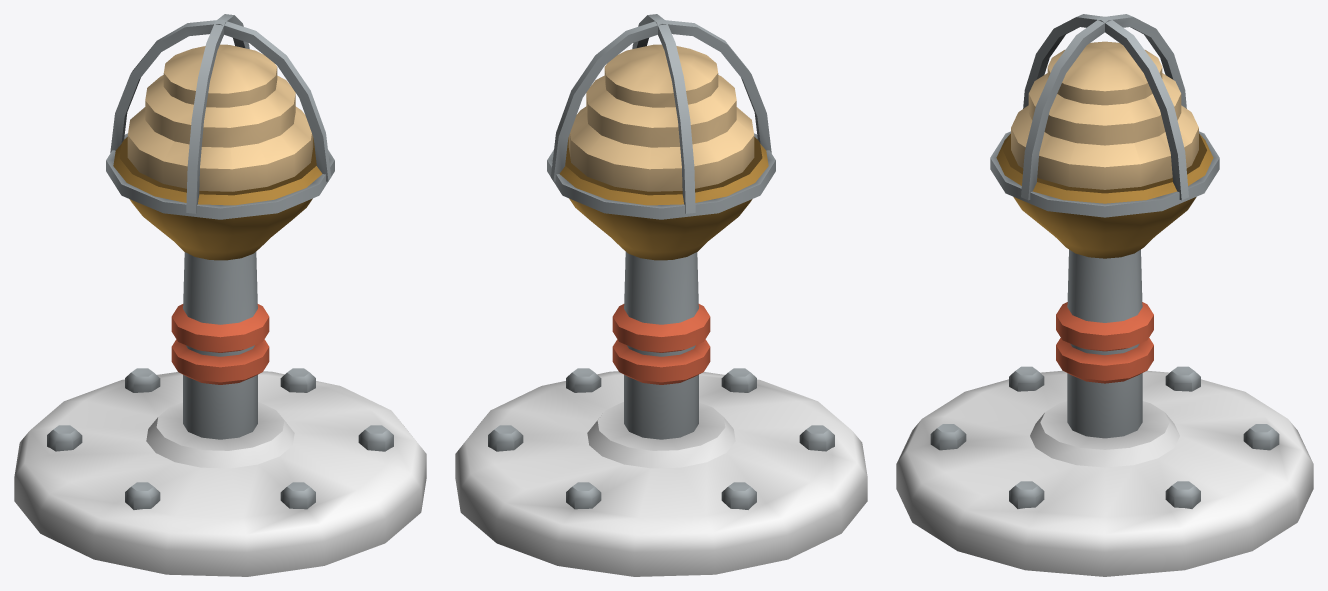
The model's file is runway_beacon.fbx.
3 views of the same model, side by side, from view 1: azimuth 30°, elevation 25°; view 2: azimuth 150°, elevation 25°; view 3: azimuth 270°, elevation 25° (orthographic).
Parts seen in each view (by area): view 1: runway_beacon, Lens; view 2: runway_beacon, Lens; view 3: runway_beacon, Lens.
Boxes of the visible parts, box(x1,y1,x2,y2) form: runway_beacon: box(14, 14, 426, 576); Lens: box(127, 44, 313, 191); runway_beacon: box(455, 14, 867, 576); Lens: box(568, 44, 754, 191); runway_beacon: box(896, 14, 1313, 576); Lens: box(1011, 41, 1198, 189).
Bounding box in the file's own units: 0.4 × 0.497 × 0.4.
